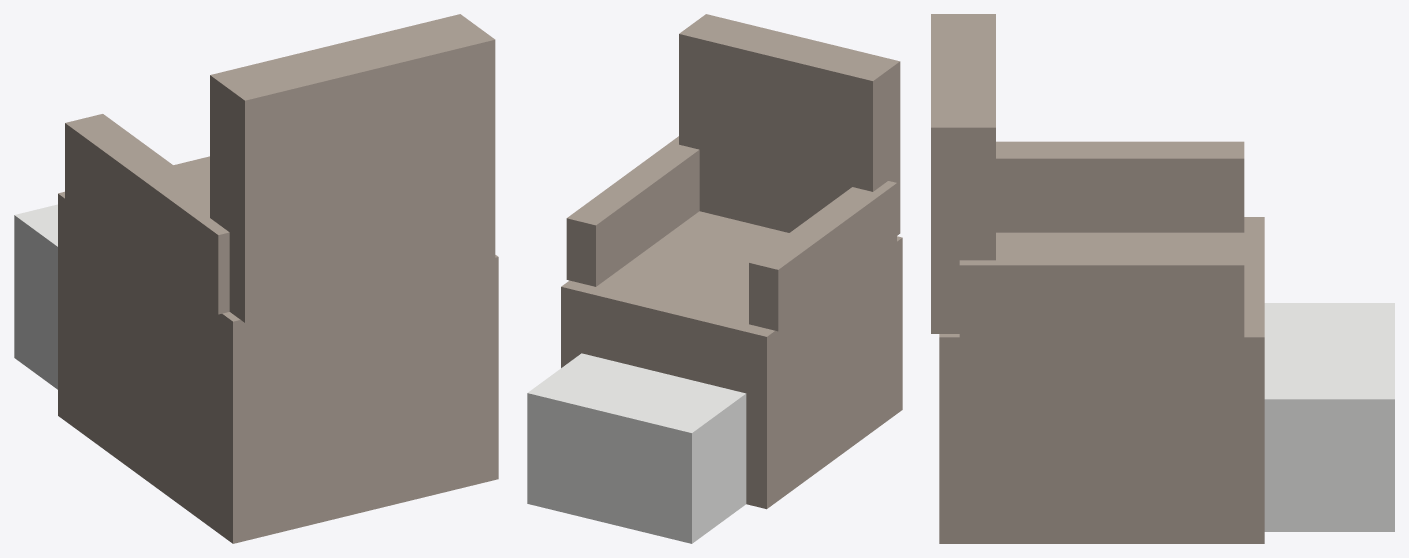
3 views of the same model, side by side, from view 1: azimuth 30°, elevation 25°; view 2: azimuth 150°, elevation 25°; view 3: azimuth 270°, elevation 25° (orthographic). The views are drawn at different scales.
Visible parts, largest first — view 1: pedicura_0; view 2: pedicura_0; view 3: pedicura_0.
Boxes of the visible parts, left/top/right/bottom form: pedicura_0: left=14, top=14, right=498, bottom=543; pedicura_0: left=527, top=14, right=902, bottom=543; pedicura_0: left=931, top=14, right=1394, bottom=543.
Size of the model in its own units: 0.72 by 1.14 by 1.12.
